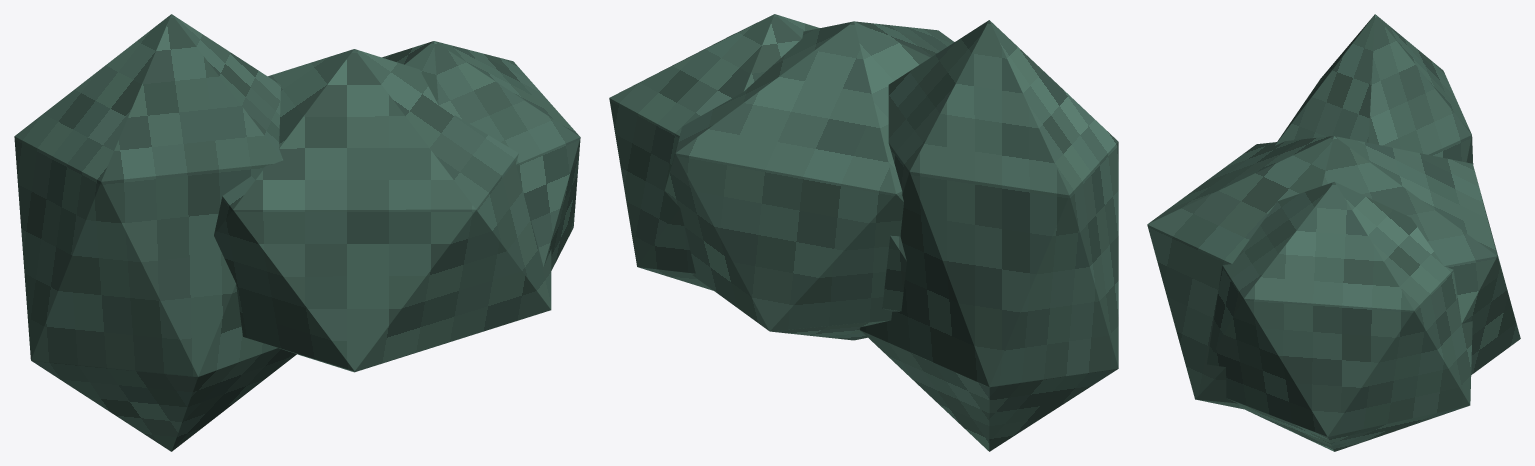
Rendered from ruin_24.glb.
3 renders of one model, left to right at view 1: azimuth 30°, elevation 25°; view 2: azimuth 150°, elevation 25°; view 3: azimuth 270°, elevation 25°, orthographic. The views are drawn at different scales.
Visible parts, largest first — view 1: WeatheredStone, WeatheredStone.002, WeatheredStone.003; view 2: WeatheredStone, WeatheredStone.002, WeatheredStone.003, WeatheredStone.001; view 3: WeatheredStone.003, WeatheredStone.002, WeatheredStone.
Part boxes in pixels (box(x1,y1,x2,y2)): WeatheredStone: box(14, 14, 296, 451); WeatheredStone.002: box(214, 49, 551, 372); WeatheredStone.003: box(382, 41, 580, 270); WeatheredStone: box(860, 20, 1118, 451); WeatheredStone.002: box(664, 21, 954, 340); WeatheredStone.003: box(609, 14, 819, 290); WeatheredStone.001: box(882, 235, 906, 311); WeatheredStone.003: box(1207, 181, 1472, 451); WeatheredStone.002: box(1147, 136, 1520, 409); WeatheredStone: box(1275, 14, 1473, 164).
Bounding box in the file's own units: 2.88 × 2.35 × 2.02.
1 material, 1 textured.
